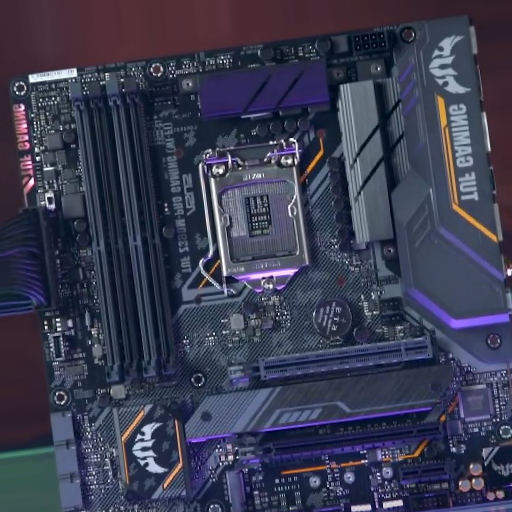CPU: (205, 140, 309, 291)
GPU: (230, 332, 432, 388), (235, 420, 444, 466)
MOTHERBOARD: (19, 16, 511, 512)
RAM: (69, 78, 179, 383)
SSD: (224, 470, 248, 511)
